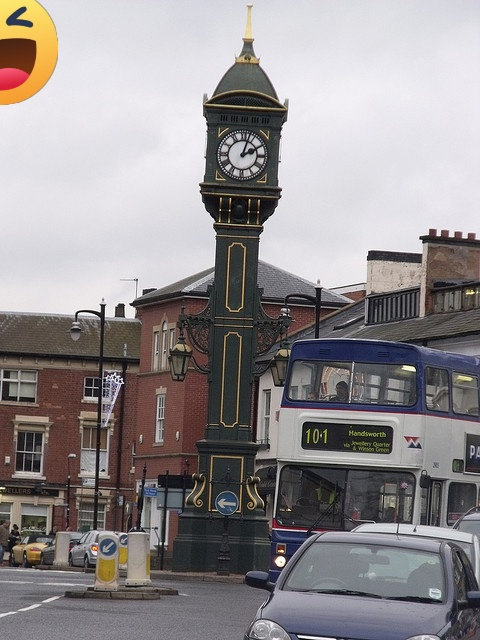haha: (0, 0, 58, 105)
